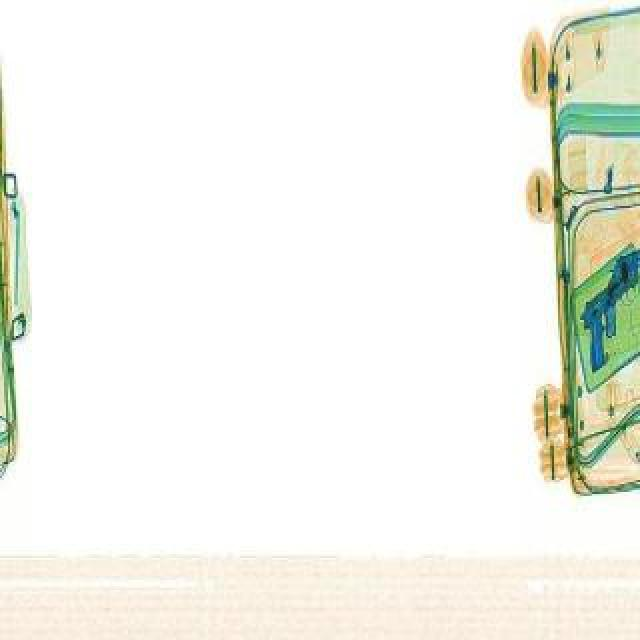gun: (562, 276, 640, 368), (588, 254, 640, 334)
